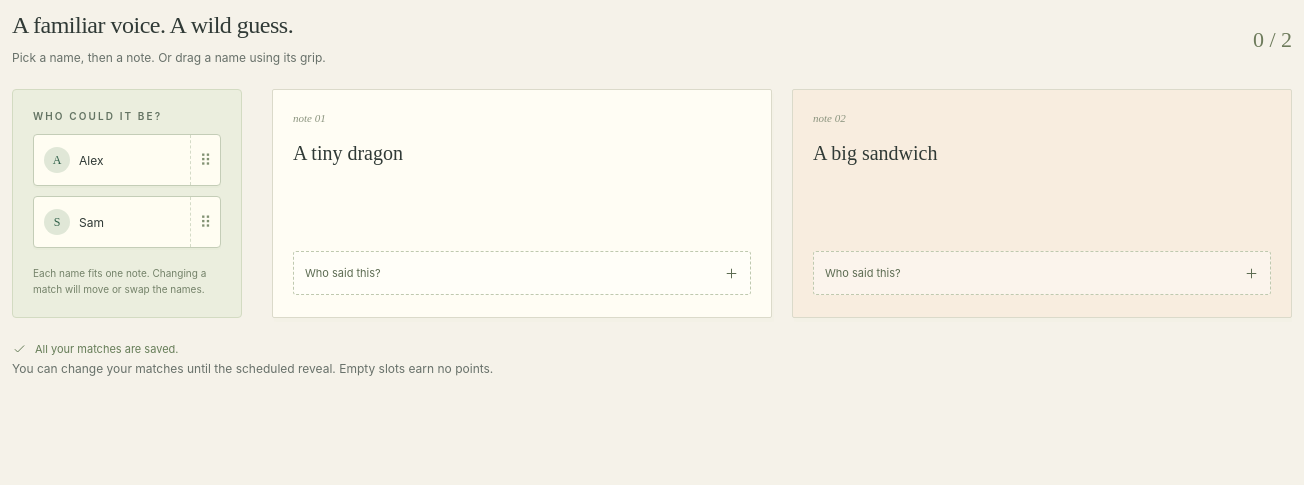
Test: supports button matching and retains failed selections for retry
The image size is (1304, 485).
Click the button with aria-label "Select Alex".
click(112, 160)  # box [34,135,190,185]
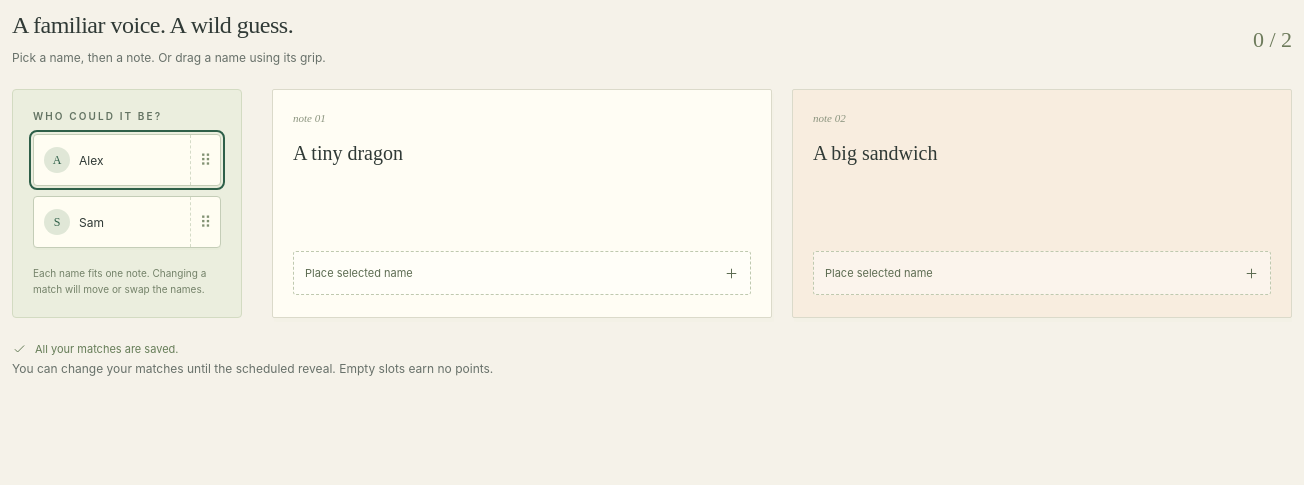
Click the button with aria-label "Assign to note 1".
click(359, 273)  # box [293,251,751,295]
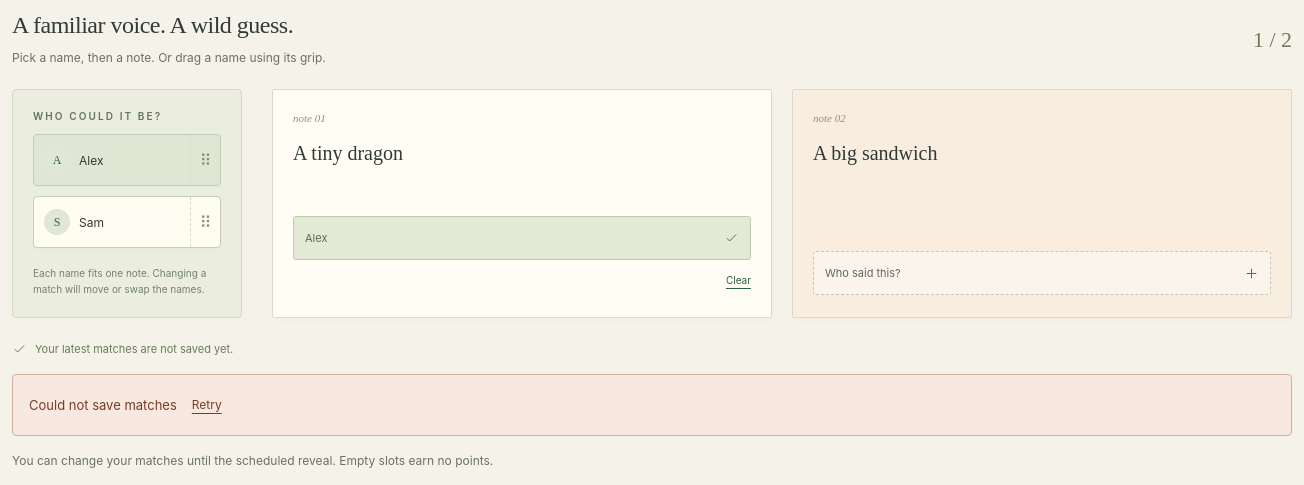
Expected: the text "Could not save matches" is shown, [29,396,177,412]
Expected: the button with aria-label "Assign to note 1" reads "Alex", [293,216,751,260]
Click the button "Retry".
click(207, 405)  # box [192,387,222,423]
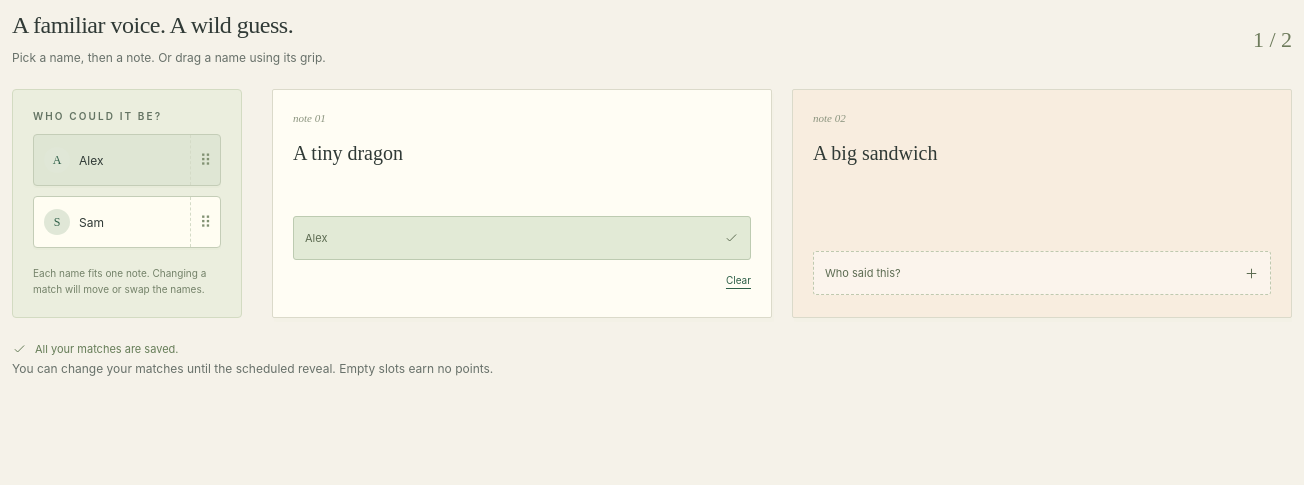
Expected: the text "All your matches are saved." is shown, [12,342,178,358]
